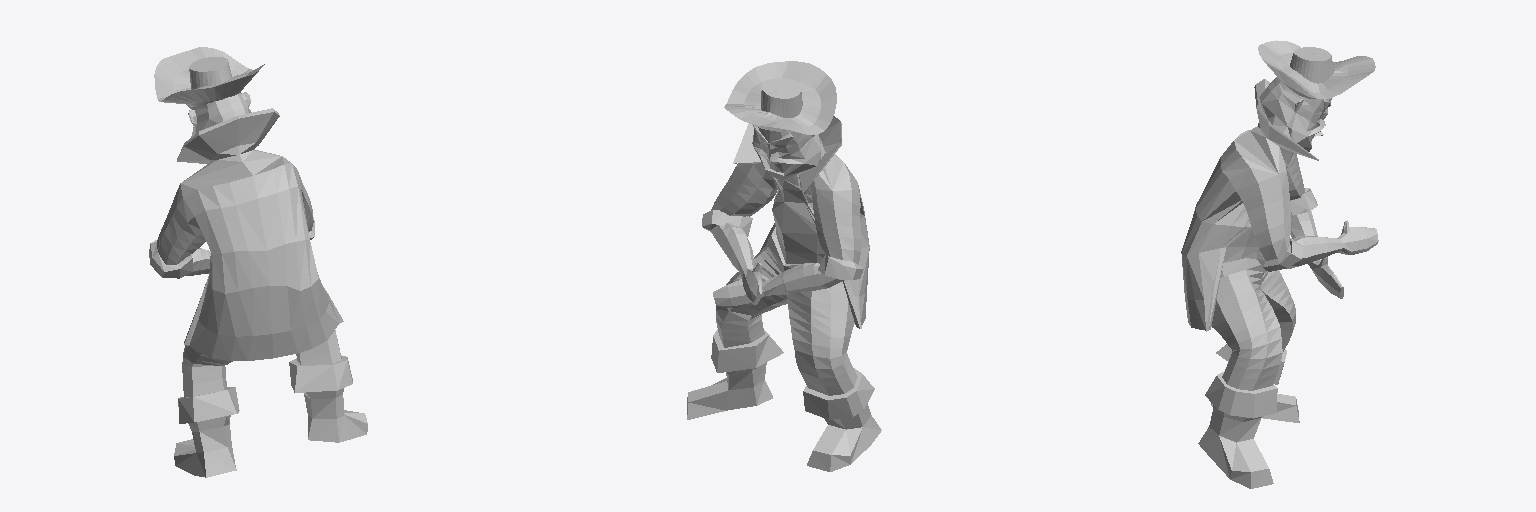
The model's file is pirata_000242.obj.
3 views of the same model, side by side, from view 1: azimuth 30°, elevation 25°; view 2: azimuth 150°, elevation 25°; view 3: azimuth 270°, elevation 25° (orthographic).
Visible parts, largest first — view 1: Pirata_PirataH; view 2: Pirata_PirataH; view 3: Pirata_PirataH.
Boxes of the visible parts, <box> form: Pirata_PirataH: <box>149,47,367,477</box>; Pirata_PirataH: <box>687,61,881,471</box>; Pirata_PirataH: <box>1181,40,1378,488</box>.
Bounding box in the file's own units: 4.7 × 8.97 × 4.18.